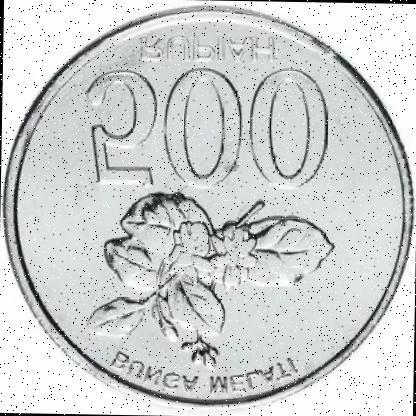coin_500_e2003: (0, 0, 416, 407)
